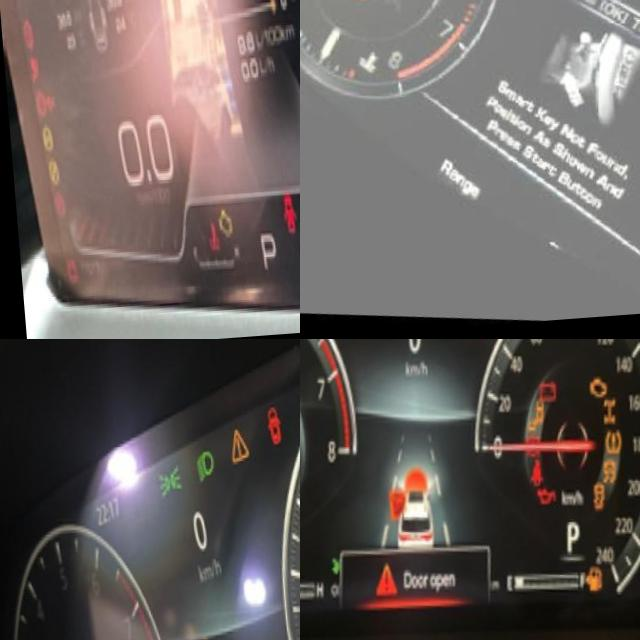Engine cooling system: (342, 42, 381, 82)
High Engine Coolant Temperature: (197, 220, 213, 261)
Low fuel level: (576, 569, 597, 602)
